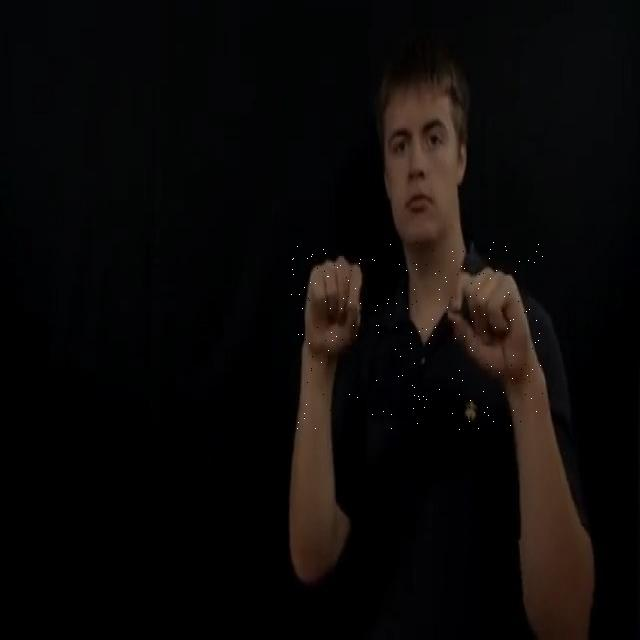bill: (291, 242, 543, 430)
